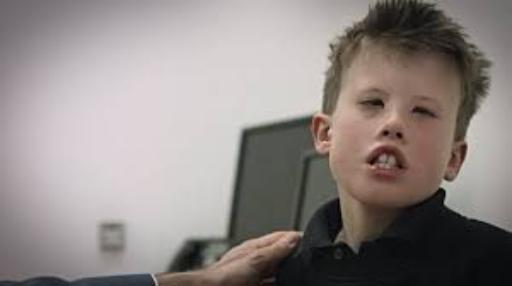left_eye: (412, 108, 439, 121)
left_lip_corner: (403, 161, 413, 175)
right_eye: (355, 100, 388, 113)
right_lip_corner: (362, 155, 373, 169)
